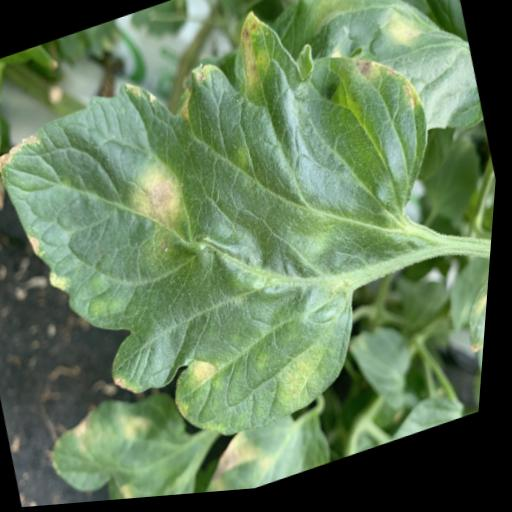Leaf Mold: (0, 0, 502, 503), (255, 0, 496, 195), (44, 377, 218, 507)
